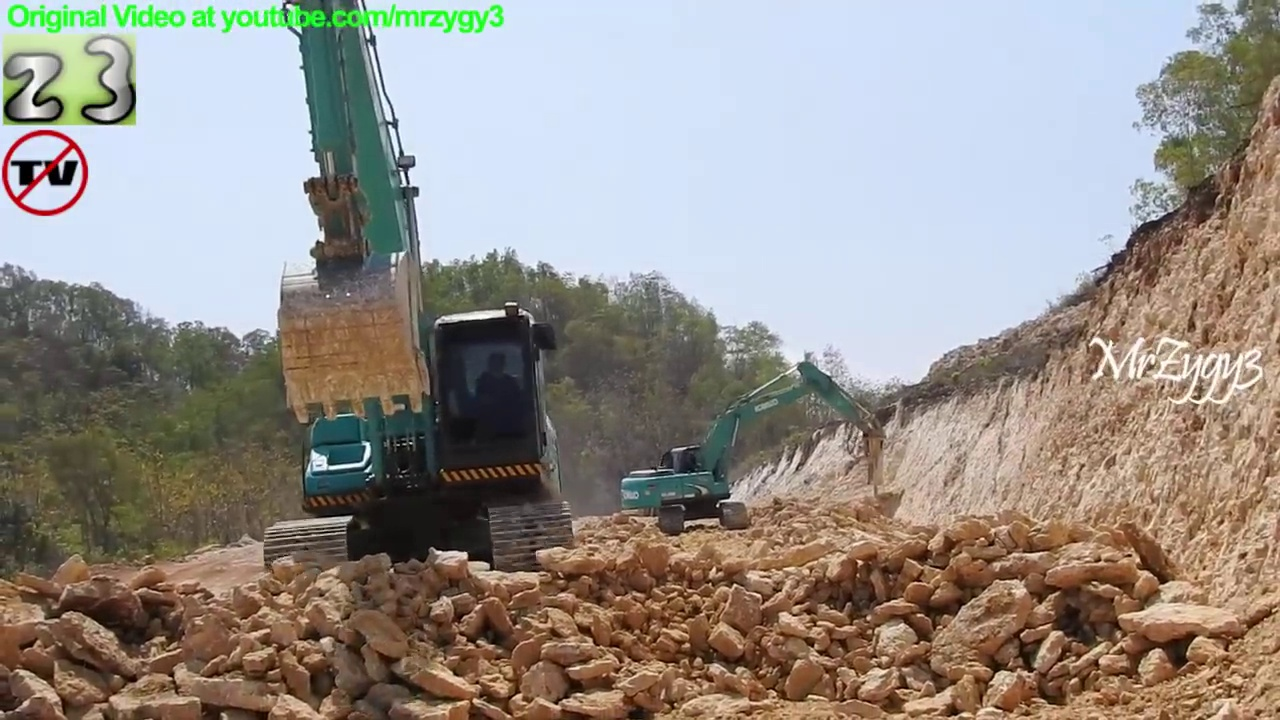excavator: (258, 1, 588, 598)
excavator breaker: (617, 354, 895, 537)
